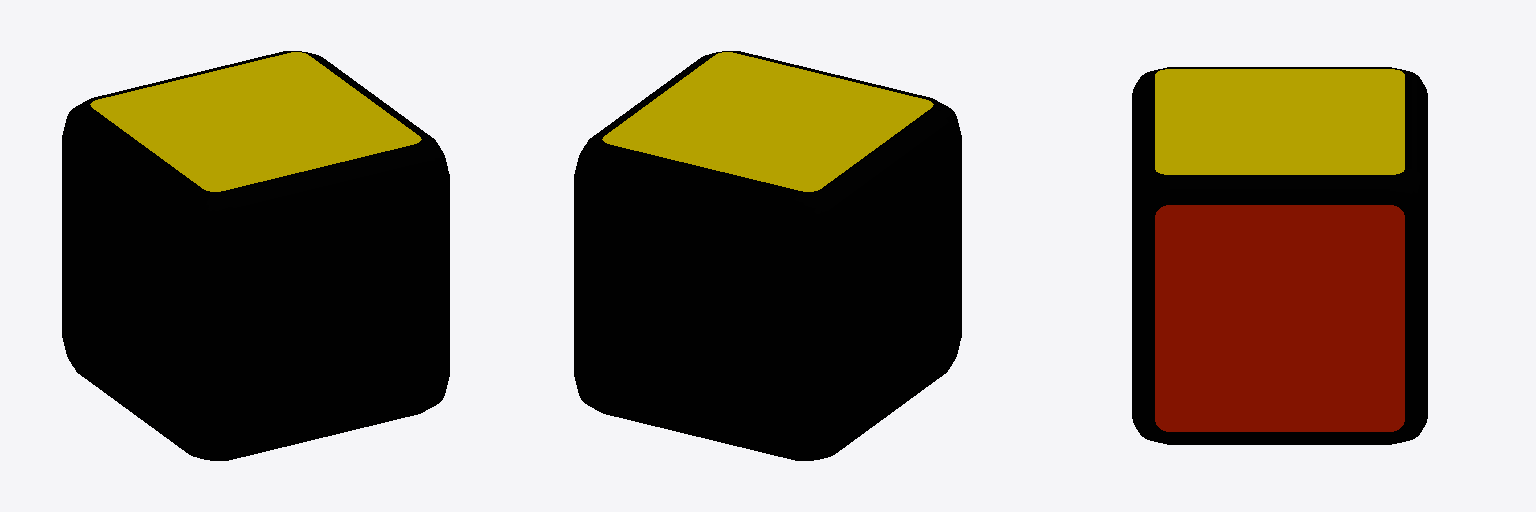
Rendered from edge_oy.obj.
3 renders of one model, left to right at view 1: azimuth 30°, elevation 25°; view 2: azimuth 150°, elevation 25°; view 3: azimuth 270°, elevation 25°, orthographic.
Visible parts, largest first — view 1: Cube; view 2: Cube; view 3: Cube.
Boxes of the visible parts, x1=… form: Cube: x1=62, y1=51, x2=449, y2=460; Cube: x1=574, y1=51, x2=961, y2=460; Cube: x1=1132, y1=67, x2=1427, y2=444.
Size of the model in its own units: 2 by 2 by 2.